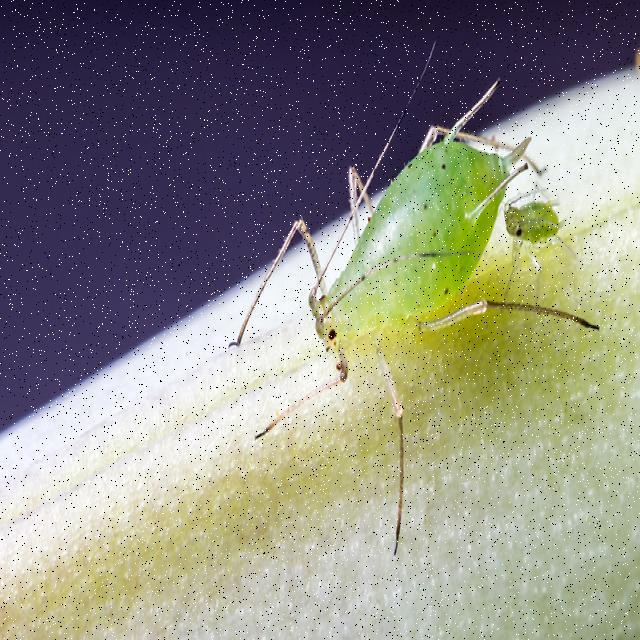Aphids: (205, 30, 589, 472), (499, 171, 570, 269)
